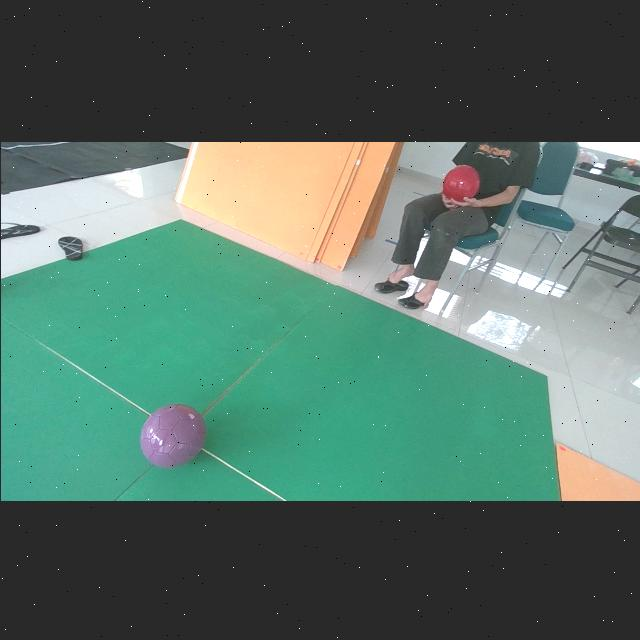P: (140, 402, 204, 467)
R: (442, 163, 478, 200)
